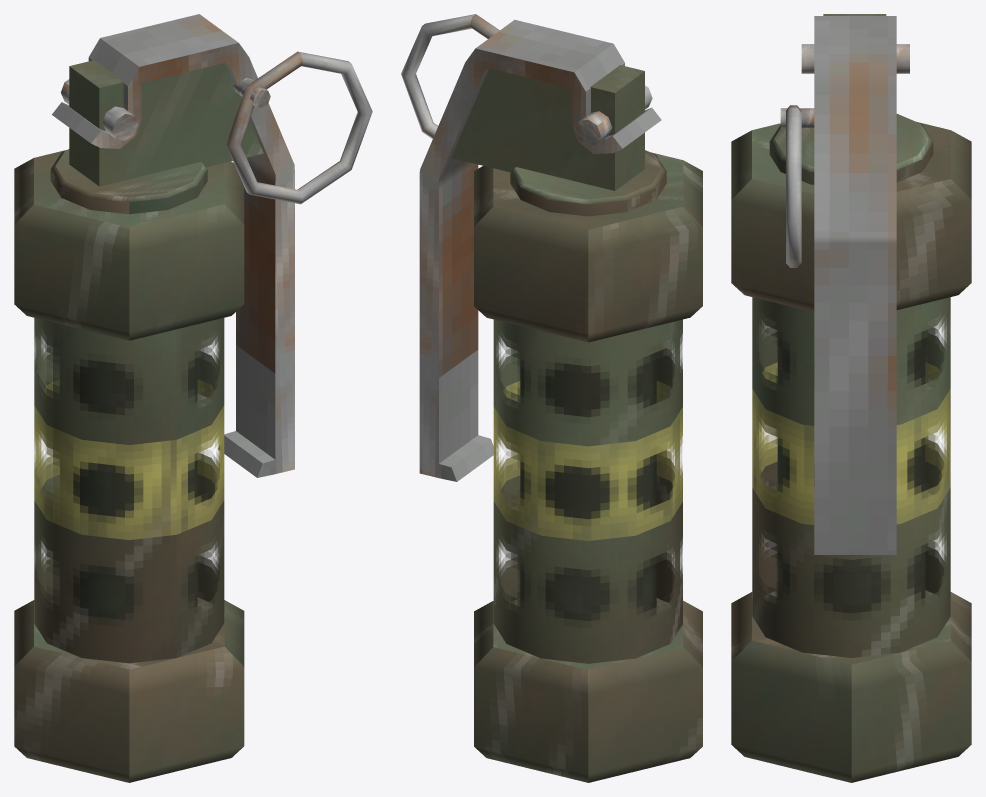
Rendered from low_poly_flash_bang.glb.
The picture shows the model from 3 angles, left to right: view 1: azimuth 30°, elevation 25°; view 2: azimuth 150°, elevation 25°; view 3: azimuth 270°, elevation 25°; orthographic projection. The views are drawn at different scales.
Parts seen in each view (by area): view 1: pCylinder6; view 2: pCylinder6; view 3: pCylinder6.
Boxes of the visible parts, bbox=[...] form: pCylinder6: bbox=[14, 14, 372, 782]; pCylinder6: bbox=[401, 14, 702, 782]; pCylinder6: bbox=[731, 14, 971, 782].
Bounding box in the file's own units: 0.00747 × 0.0148 × 0.00452.
1 material, 1 textured.
